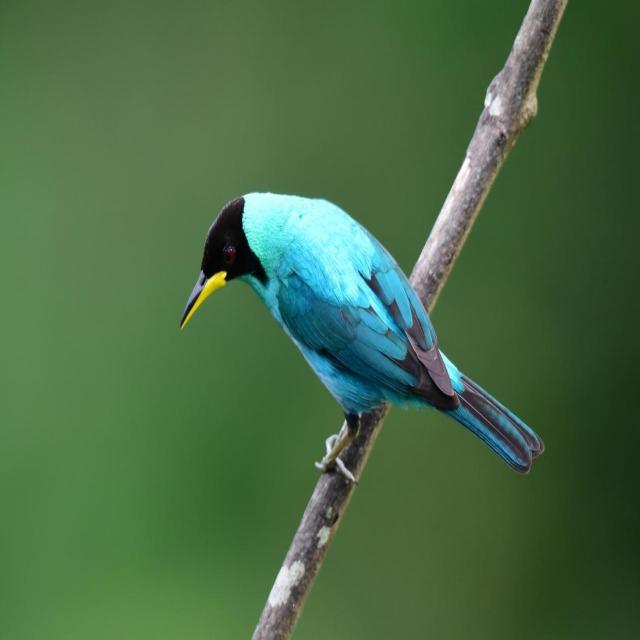bird: (177, 174, 549, 495)
